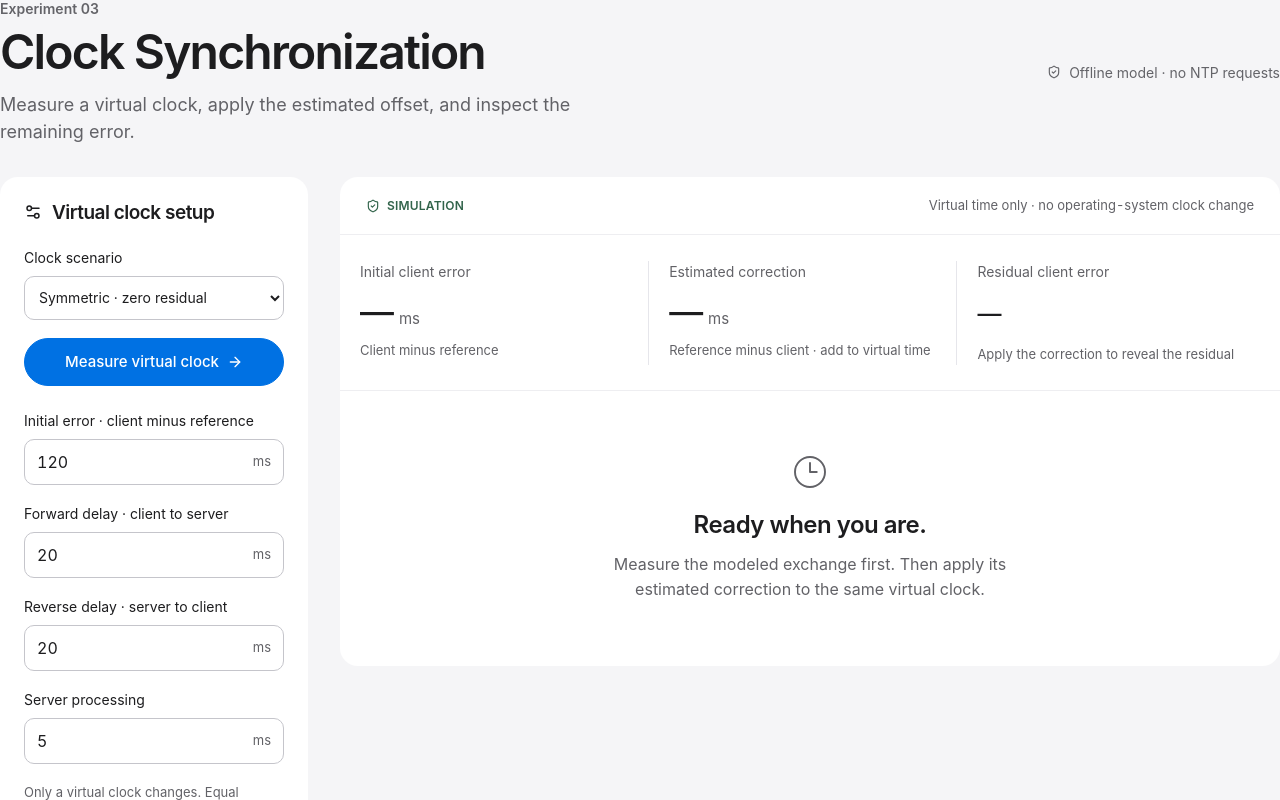
Test case: invalidates the previous correction on a new successful measurement
This screenshot has width=1280, height=800.
Click the button "Measure virtual clock".
click(154, 362)  # box [24,338,284,386]
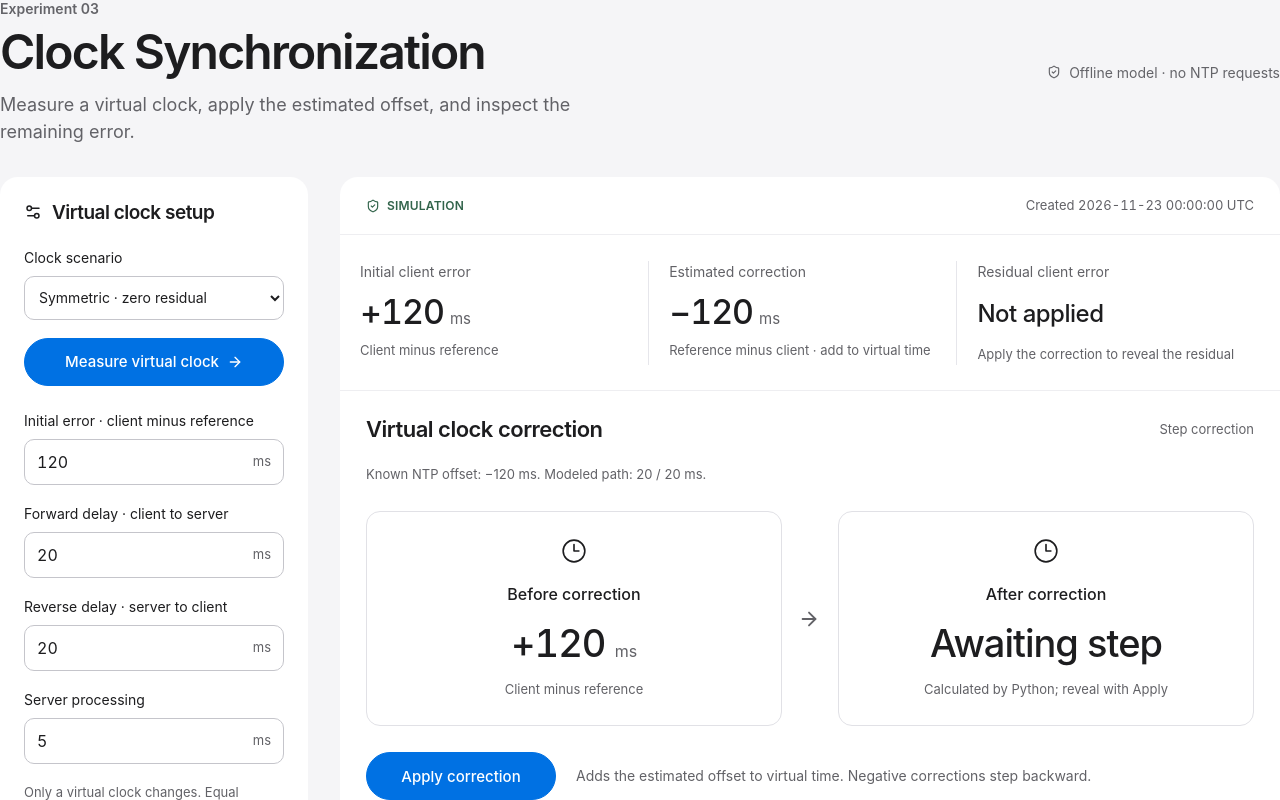
Click the button "Apply correction".
click(461, 776)  # box [366,752,556,799]
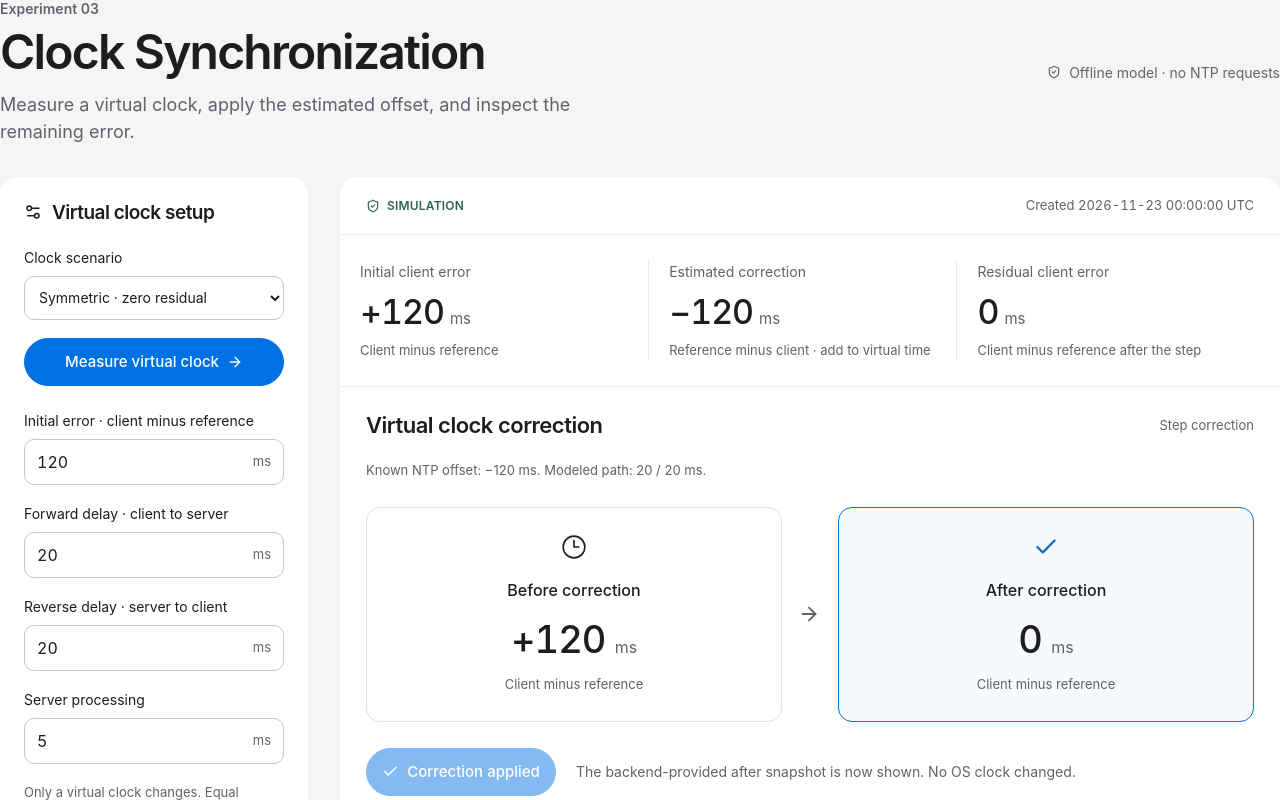
Select "Forward-heavy · positive residual" in the dropdown labelled "Clock scenario" at (154, 298), box [24,276,284,320]
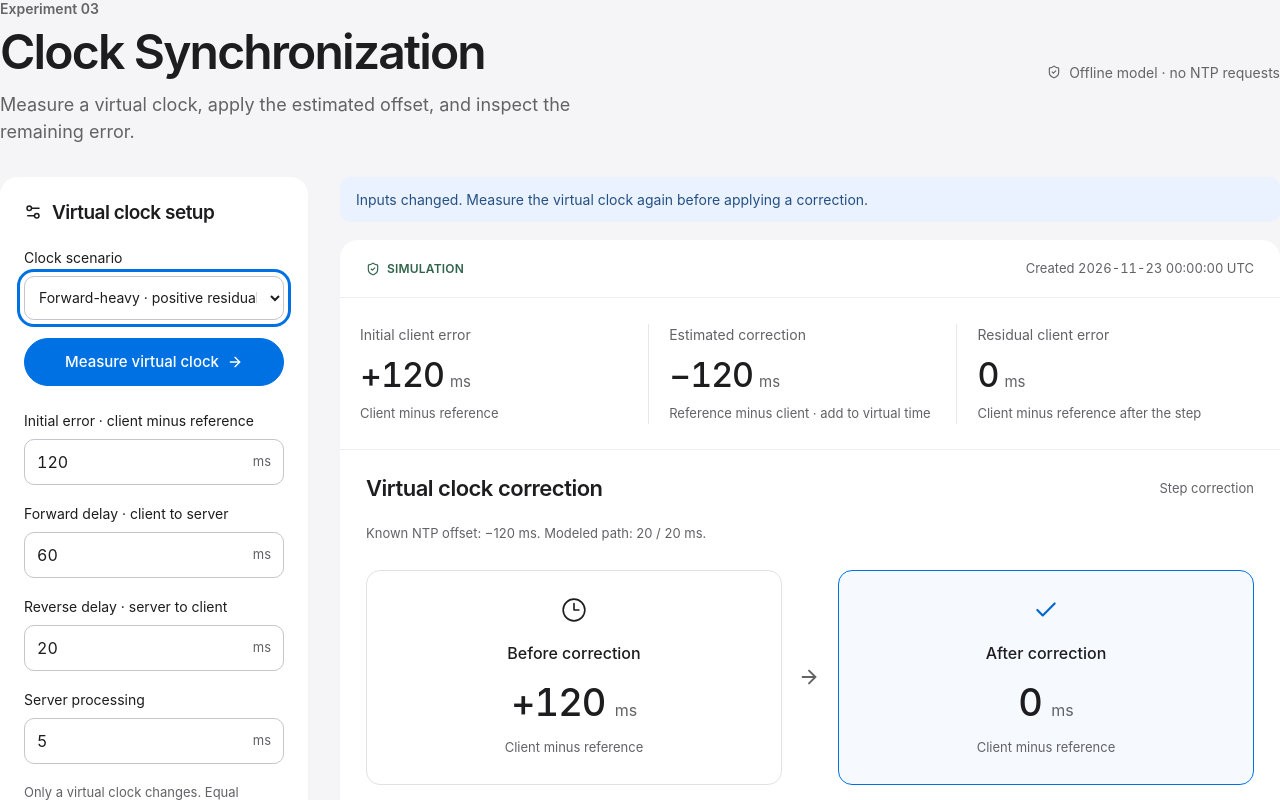
Click the button "Measure virtual clock".
click(154, 362)  # box [24,338,284,386]
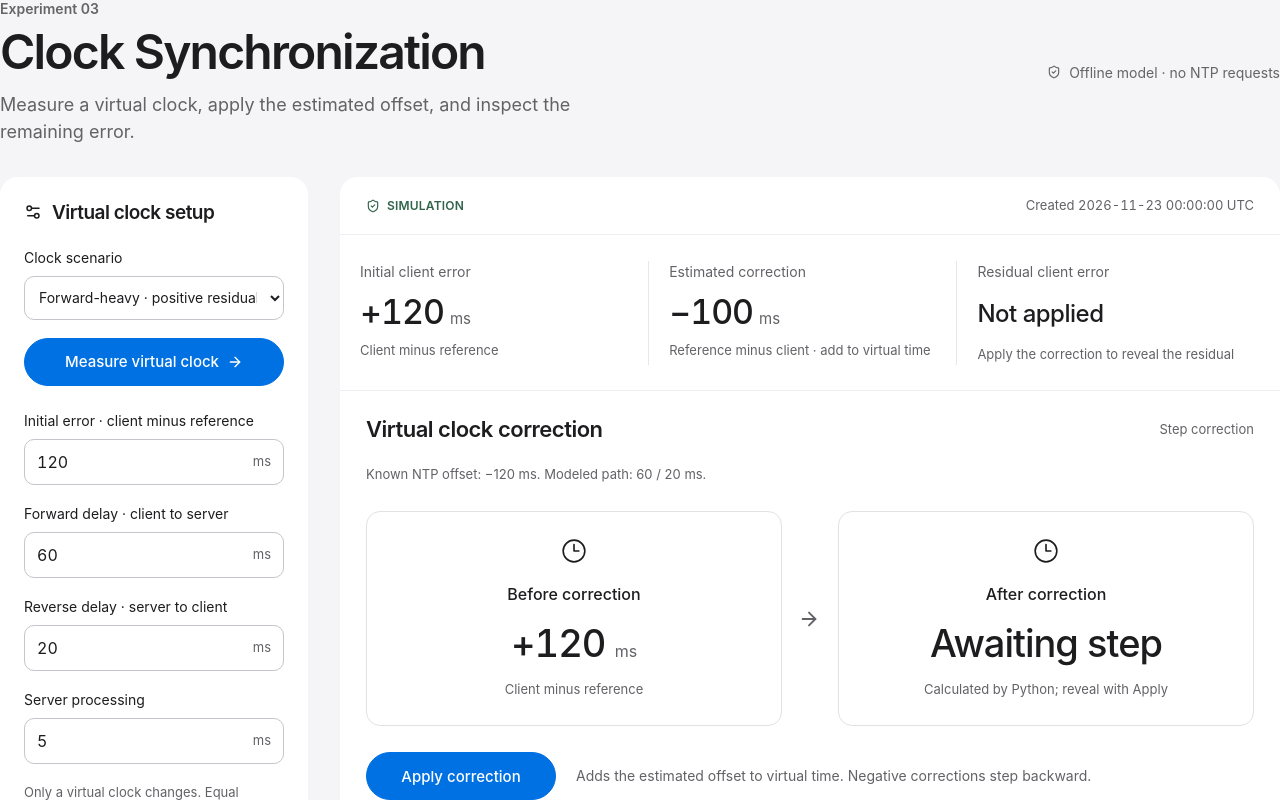
Check: the text "Not applied" is shown, box [977,300,1104,329]
